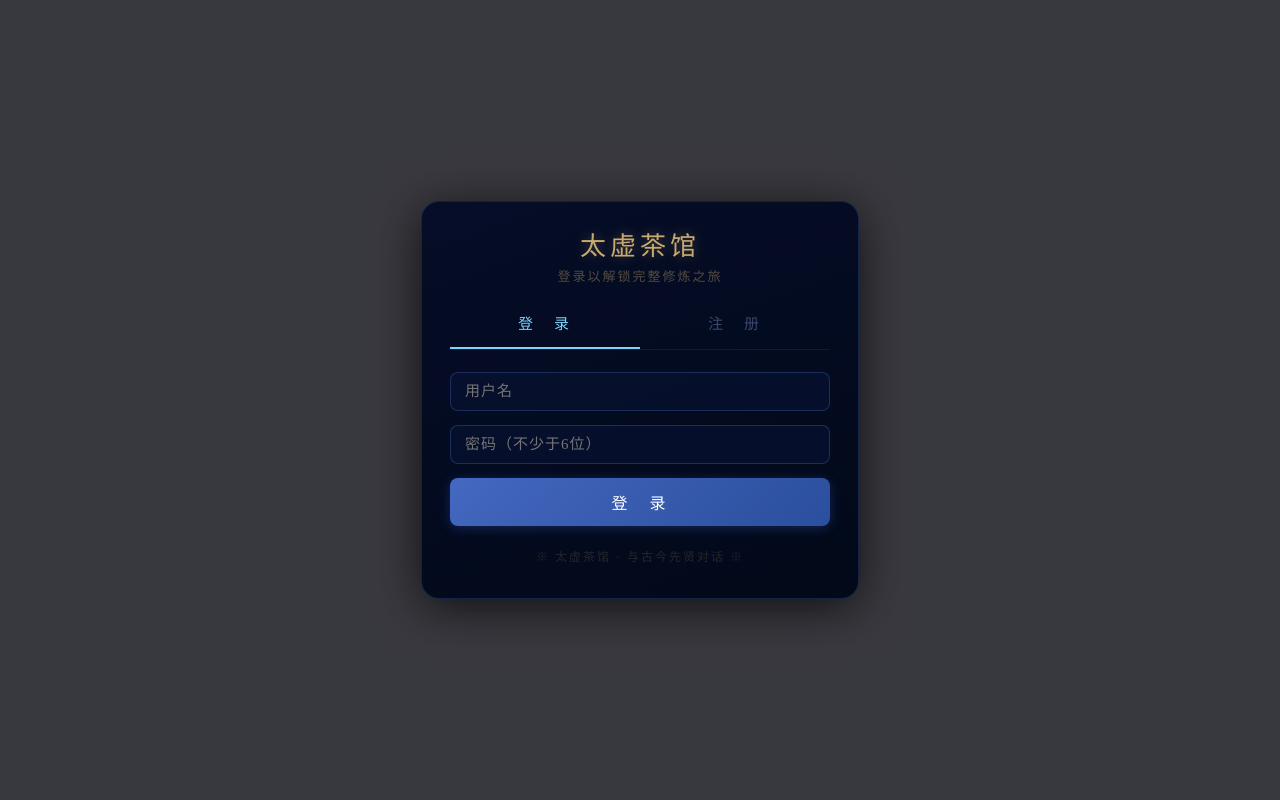
Test: LoginModal › 表单验证 › 空密码时显示错误提示
The image size is (1280, 800).
In the field with placeholder "用户名": (640, 391) [450,372,830,411], type "testuser"
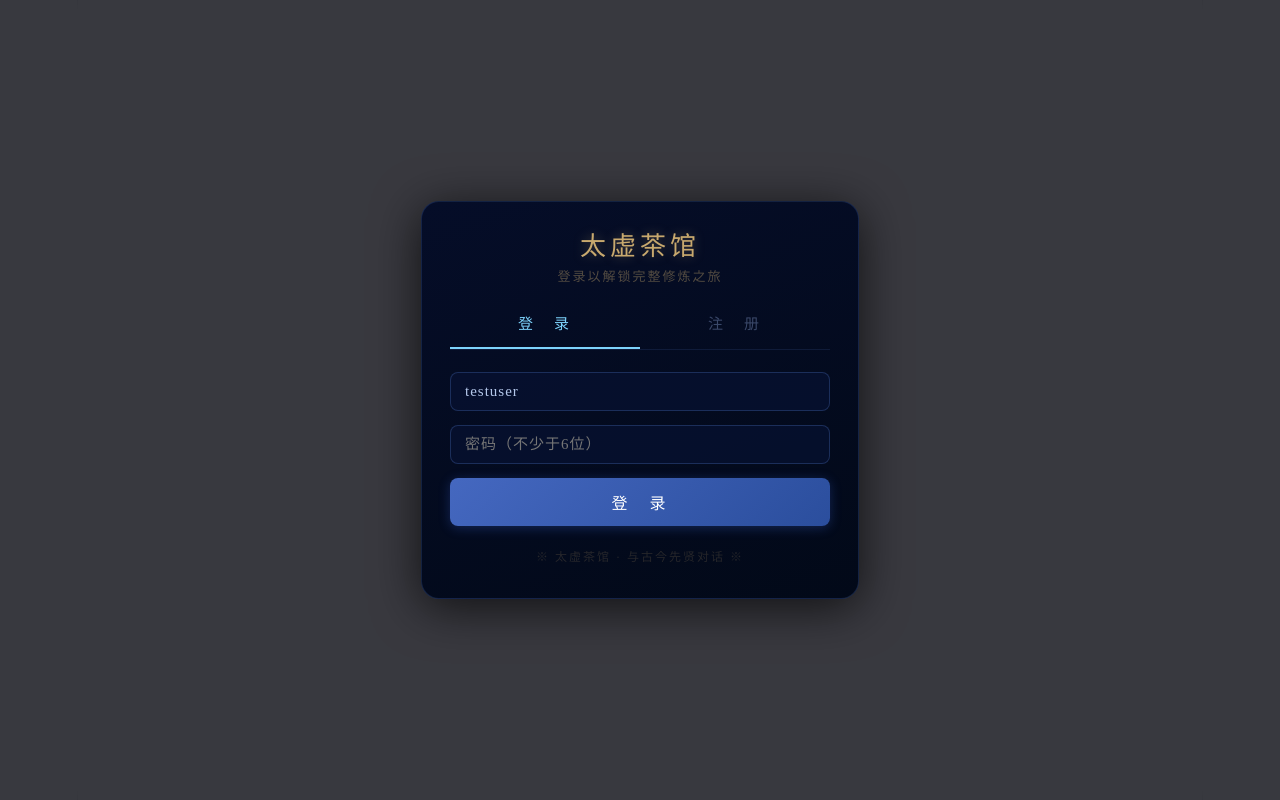
Click the button "登 录": click(640, 502) [450,478,830,526]
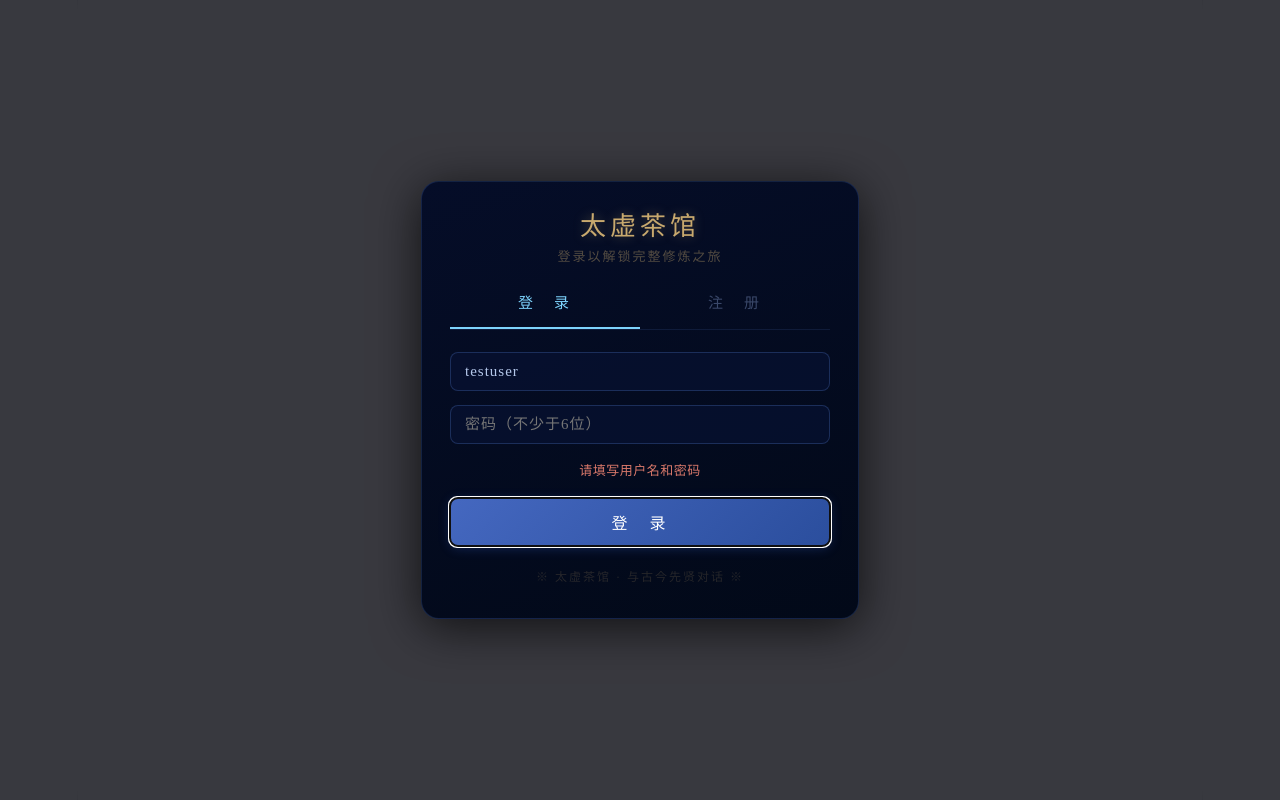
Check: the text "请填写用户名和密码" is shown, box [579,462,701,478]
